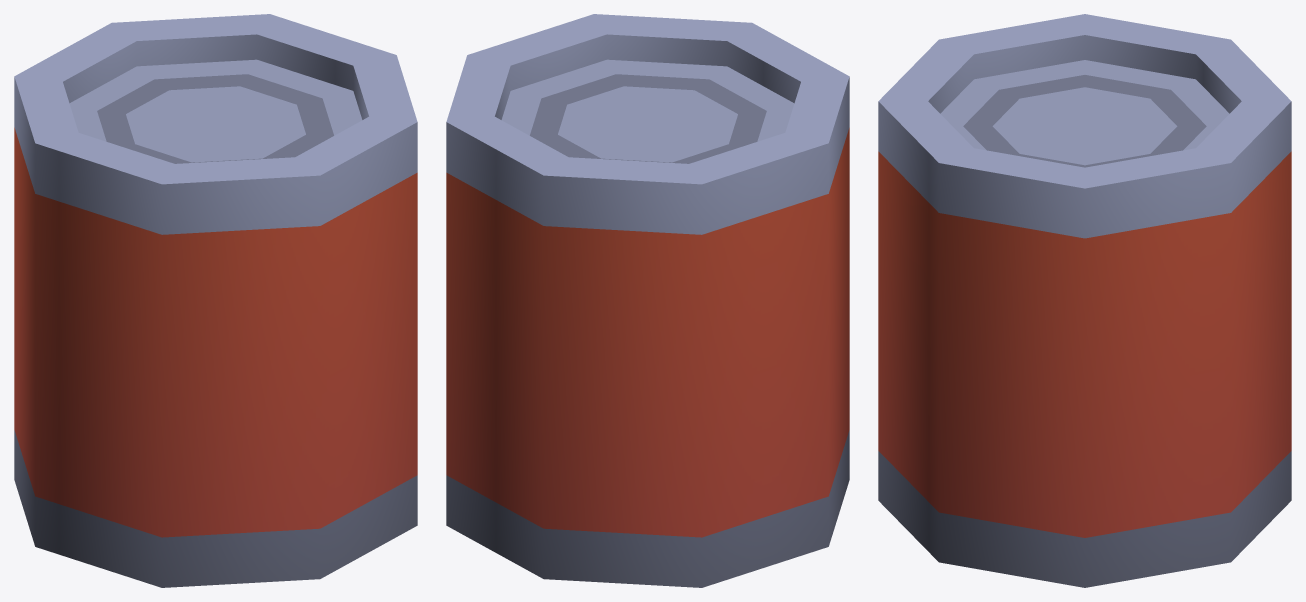
The model's file is can.glb.
3 views of the same model, side by side, from view 1: azimuth 30°, elevation 25°; view 2: azimuth 150°, elevation 25°; view 3: azimuth 270°, elevation 25° (orthographic).
Parts seen in each view (by area): view 1: can; view 2: can; view 3: can.
Boxes of the visible parts, x1,y1,x2,y2 form: can: [14, 14, 417, 587]; can: [446, 14, 849, 587]; can: [878, 14, 1291, 587].
Size of the model in its own units: 0.3 by 0.32 by 0.3.
